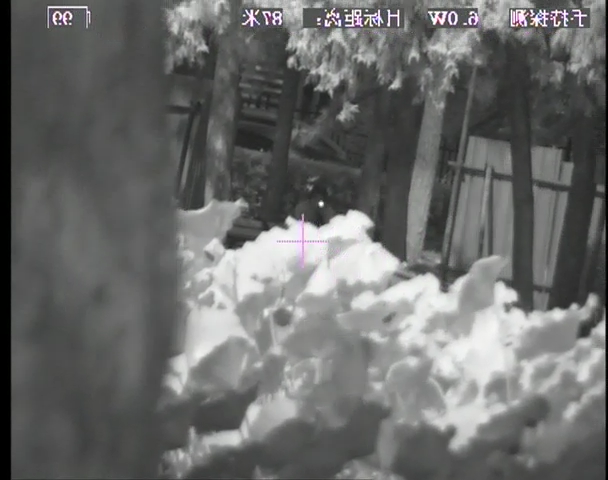my: (317, 199, 327, 210)
